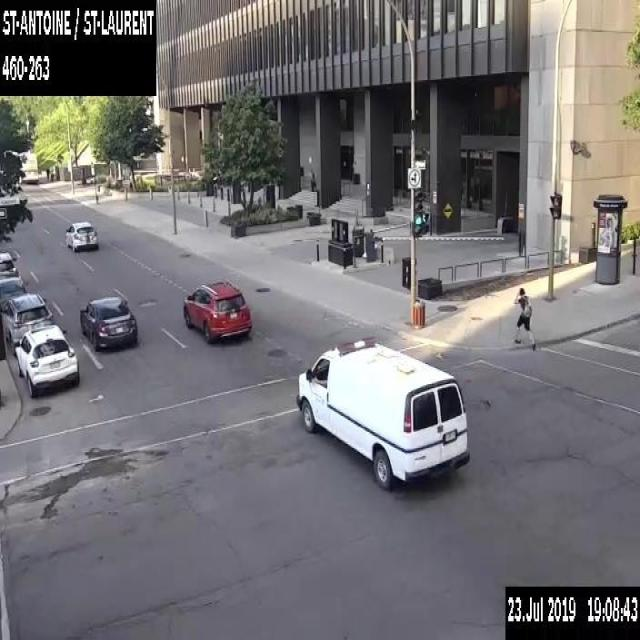pedestrian: (514, 286, 536, 351), (45, 165, 50, 182)
vehicle: (296, 335, 470, 489), (14, 323, 79, 397), (183, 278, 252, 342), (0, 291, 53, 356), (79, 293, 136, 351), (65, 219, 99, 249), (0, 274, 25, 298), (0, 249, 18, 276)
